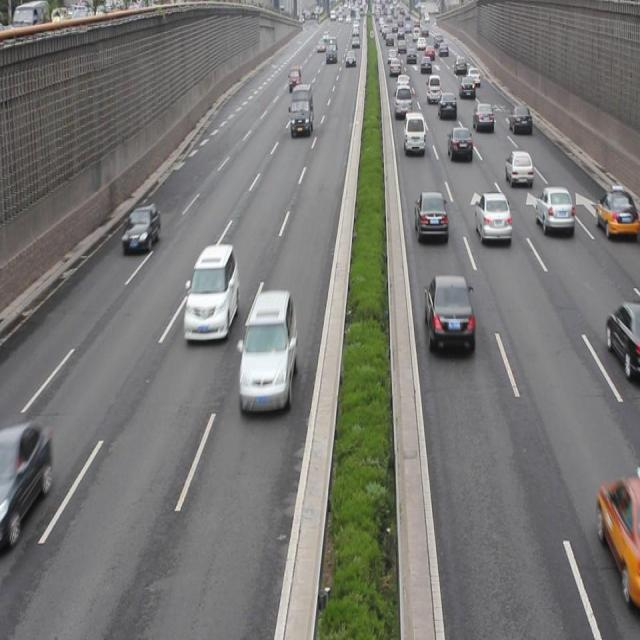car: (240, 290, 293, 415), (183, 243, 240, 348), (595, 474, 640, 606), (422, 273, 475, 358), (604, 302, 640, 378), (594, 186, 640, 238), (472, 194, 512, 247), (120, 202, 160, 253), (534, 187, 573, 237), (414, 189, 447, 245), (504, 151, 530, 186), (403, 114, 425, 154), (446, 126, 472, 158), (508, 105, 530, 132), (473, 105, 492, 128)
truck: (288, 83, 313, 134)
